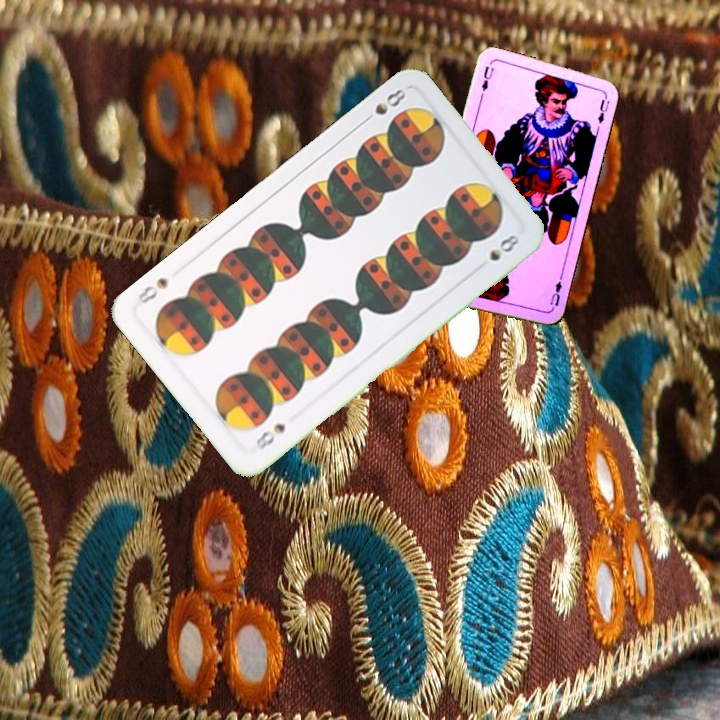EU: (546, 274, 565, 309), (478, 62, 497, 93)
S8: (357, 84, 409, 127), (251, 419, 289, 454)
